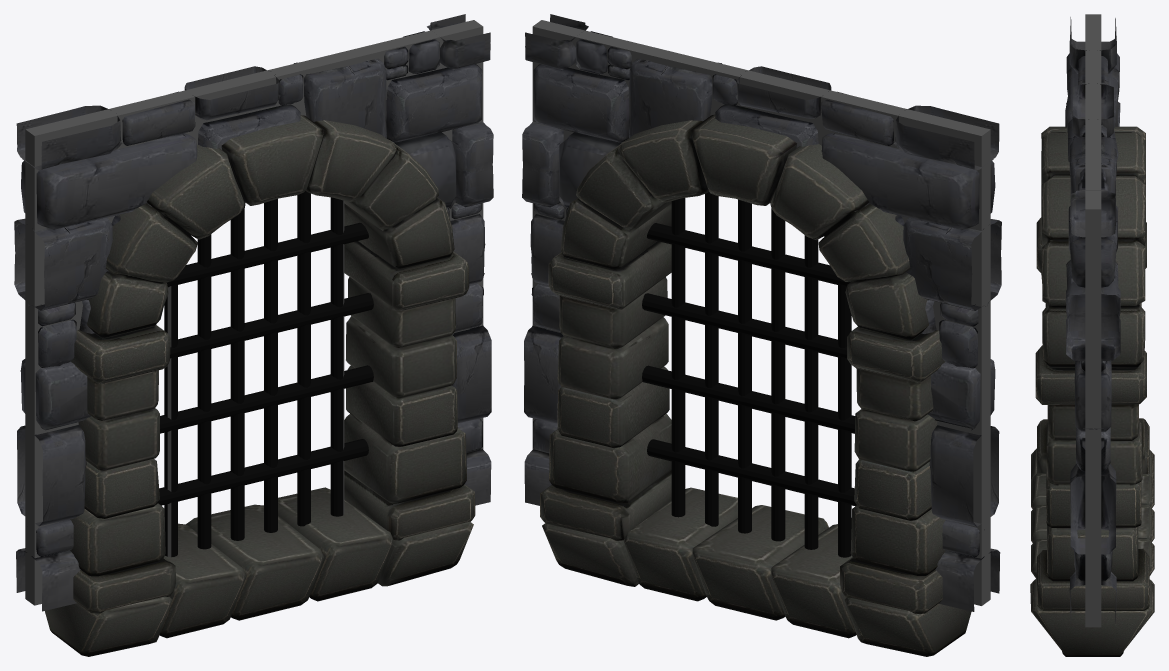
The model's file is Arch_05_BarsFull.fbx.
3 views of the same model, side by side, from view 1: azimuth 30°, elevation 25°; view 2: azimuth 150°, elevation 25°; view 3: azimuth 270°, elevation 25° (orthographic). The views are drawn at different scales.
Visible parts, largest first — view 1: Archway_Stone_BarsFull.001; view 2: Archway_Stone_BarsFull.001; view 3: Archway_Stone_BarsFull.001.
Boxes of the visible parts, x1=… form: Archway_Stone_BarsFull.001: x1=14, y1=14, x2=493, y2=656; Archway_Stone_BarsFull.001: x1=522, y1=14, x2=1001, y2=656; Archway_Stone_BarsFull.001: x1=1030, y1=14, x2=1154, y2=656.
Size of the model in its own units: 302 by 336 by 80.96.
Materials: 4 (3 with a texture image).
